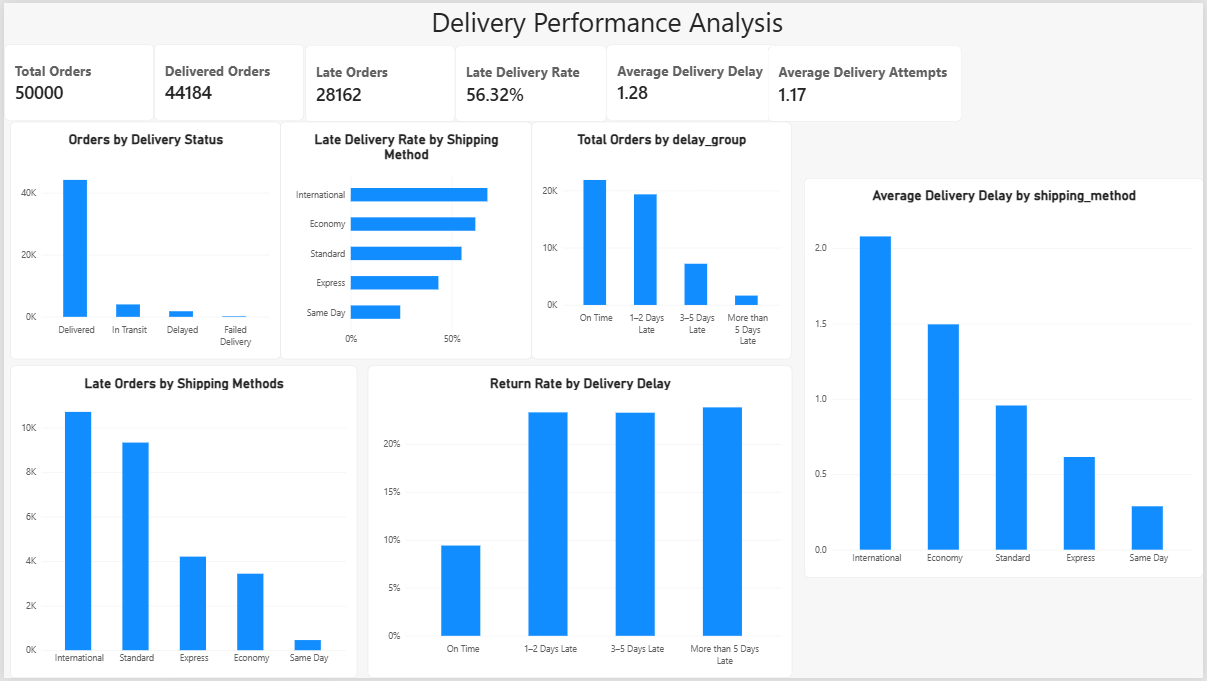

The dashboard page shown, as its layout file describes it:
{"tool":"powerbi","page":{"name":"Delivery Performance","canvas":[1920,1080],"ordinal":1},"visuals":[{"type":"textbox","box":[10,0,1910,66],"z":0},{"type":"cardVisual","fields":{"Data":["ecommerce_delivery_powerbi.Total Orders"]},"box":[0,65.8,240.8,122.3],"z":1},{"type":"cardVisual","fields":{"Data":["ecommerce_delivery_powerbi.Delivered Orders"]},"box":[240.8,65.8,240.8,122.3],"z":2},{"type":"cardVisual","fields":{"Data":["ecommerce_delivery_powerbi.Late Delivery Rate"]},"box":[722.3,67.7,242.6,122.3],"z":3},{"type":"cardVisual","fields":{"Data":["ecommerce_delivery_powerbi.Average Delivery Delay"]},"box":[964,66,274,122],"z":4},{"type":"cardVisual","fields":{"Data":["ecommerce_delivery_powerbi.Average Delivery Attempts"]},"box":[1222,68,310,122],"z":6},{"type":"cardVisual","fields":{"Data":["ecommerce_delivery_powerbi.Late Orders"]},"box":[481.5,67.7,240.8,122.3],"z":7},{"type":"clusteredColumnChart","title":"Orders by Delivery Status","fields":{"Category":["ecommerce_delivery_powerbi.delivery_status"],"Y":["ecommerce_delivery_powerbi.Total Orders"]},"box":[9.4,190,432.6,379.9],"z":8},{"type":"clusteredColumnChart","title":"Late Orders by Shipping Methods","fields":{"Category":["ecommerce_delivery_powerbi.shipping_method"],"Y":["ecommerce_delivery_powerbi.Late Orders"]},"box":[9.4,579.3,554.9,500.3],"z":9},{"type":"clusteredBarChart","title":"Late Delivery Rate by Shipping Method","fields":{"Category":["ecommerce_delivery_powerbi.shipping_method"],"Y":["ecommerce_delivery_powerbi.Late Delivery Rate"]},"box":[442,190,402.5,379.9],"z":10},{"type":"clusteredColumnChart","fields":{"Category":["ecommerce_delivery_powerbi.shipping_method"],"Y":["ecommerce_delivery_powerbi.Average Delivery Delay"]},"box":[1280.9,280.3,639.5,639.5],"z":11},{"type":"clusteredColumnChart","fields":{"Category":["ecommerce_delivery_powerbi.delay_group"],"Y":["ecommerce_delivery_powerbi.Total Orders"]},"box":[844.5,190,415.7,379.9],"z":12},{"type":"clusteredColumnChart","title":"Return Rate by Delivery Delay","fields":{"Category":["ecommerce_delivery_powerbi.delay_group"],"Y":["ecommerce_delivery_powerbi.Return Rate"]},"box":[581.2,579.3,679,500.3],"z":13}]}

Visuals, with their boxes in screenshot pixels (x1, y1, x2, y2), scaled from the page's 1920x1080 canvas onto the 1207x681 screenshot:
textbox: Rect(6, 0, 1206, 42)
cardVisual - ecommerce_delivery_powerbi.Total Orders: Rect(0, 41, 151, 119)
cardVisual - ecommerce_delivery_powerbi.Delivered Orders: Rect(151, 41, 303, 119)
cardVisual - ecommerce_delivery_powerbi.Late Delivery Rate: Rect(454, 43, 607, 120)
cardVisual - ecommerce_delivery_powerbi.Average Delivery Delay: Rect(606, 42, 778, 119)
cardVisual - ecommerce_delivery_powerbi.Average Delivery Attempts: Rect(768, 43, 963, 120)
cardVisual - ecommerce_delivery_powerbi.Late Orders: Rect(303, 43, 454, 120)
"Orders by Delivery Status" clusteredColumnChart: Rect(6, 120, 278, 359)
"Late Orders by Shipping Methods" clusteredColumnChart: Rect(6, 365, 355, 680)
"Late Delivery Rate by Shipping Method" clusteredBarChart: Rect(278, 120, 531, 359)
clusteredColumnChart - ecommerce_delivery_powerbi.shipping_method x ecommerce_delivery_powerbi.Average Delivery Delay: Rect(805, 177, 1206, 580)
clusteredColumnChart - ecommerce_delivery_powerbi.delay_group x ecommerce_delivery_powerbi.Total Orders: Rect(531, 120, 792, 359)
"Return Rate by Delivery Delay" clusteredColumnChart: Rect(365, 365, 792, 680)
